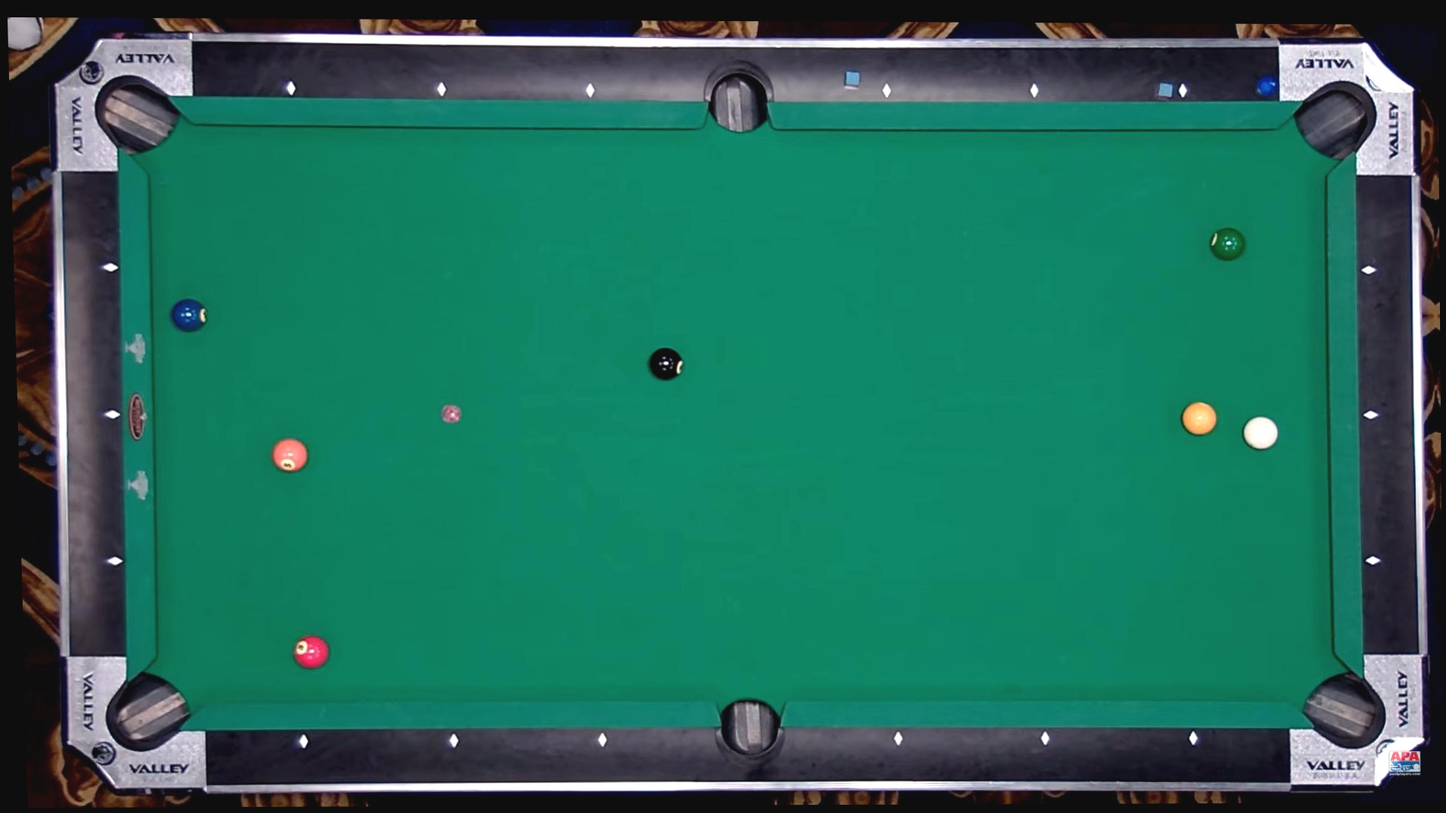Black: (648, 347, 685, 380)
Cue: (1242, 415, 1279, 450)
Solid: (104, 261, 115, 272), (286, 83, 297, 94), (881, 85, 892, 96), (1187, 733, 1198, 744), (596, 734, 607, 745), (109, 557, 120, 567), (107, 409, 118, 419), (436, 86, 447, 96), (585, 86, 595, 97), (1029, 86, 1040, 96), (1177, 86, 1188, 96), (1368, 556, 1378, 567), (1039, 733, 1049, 744), (448, 736, 459, 746), (298, 737, 309, 747), (1363, 265, 1373, 275), (1367, 410, 1377, 420), (893, 734, 903, 744)
Striped: (1210, 226, 1246, 261), (1182, 401, 1217, 435), (272, 438, 307, 472), (294, 635, 330, 668), (172, 299, 208, 332)
